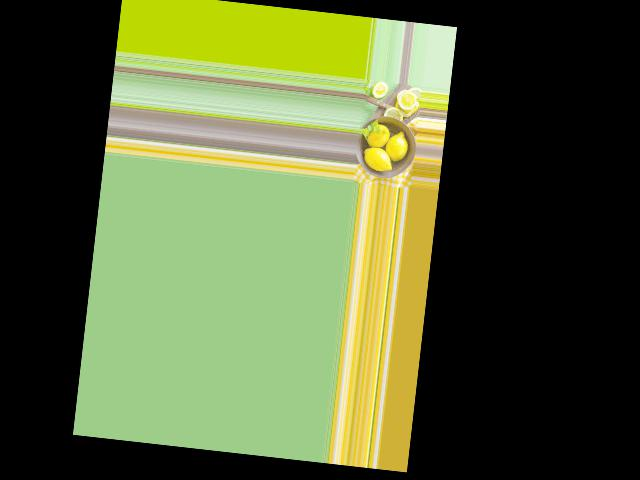lemon: (358, 143, 396, 176)
